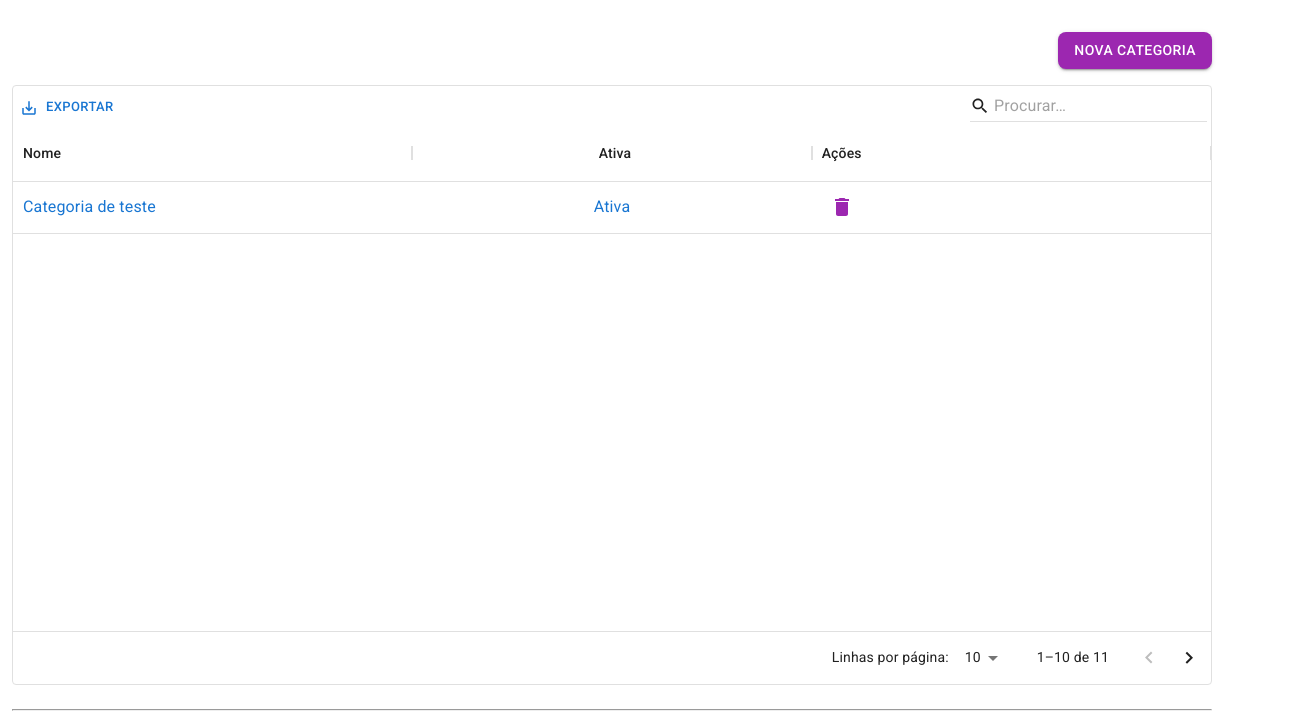
Test: Listagem de categorias › deve carregar a próxima página
This screenshot has width=1292, height=720.
Expected: the text "Categoria de teste" is shown, x1=23 y1=195 x2=156 y2=219
Click the button named "Ir para a próxima página" at (1189, 658), box x1=1169 y1=638 x2=1209 y2=678
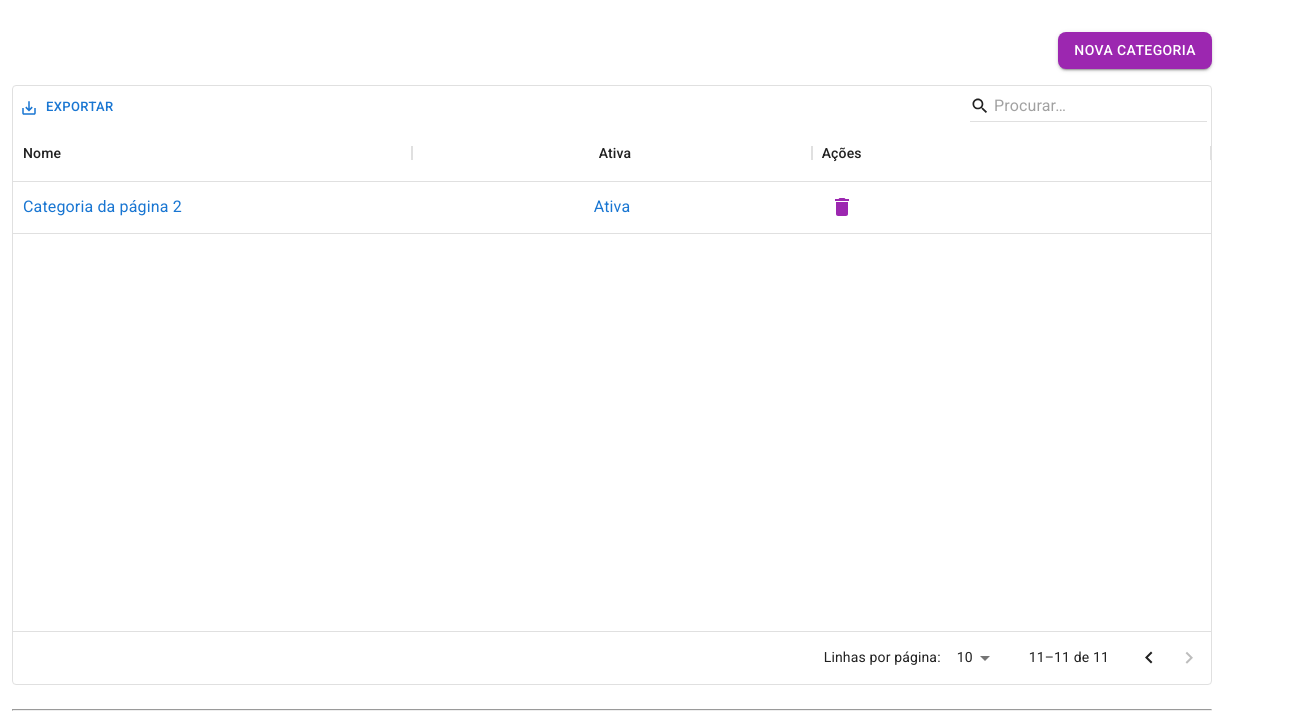
Result: the text "Categoria da página 2" is shown at x1=23 y1=195 x2=182 y2=219
Result: the link "Categoria de teste" is gone
